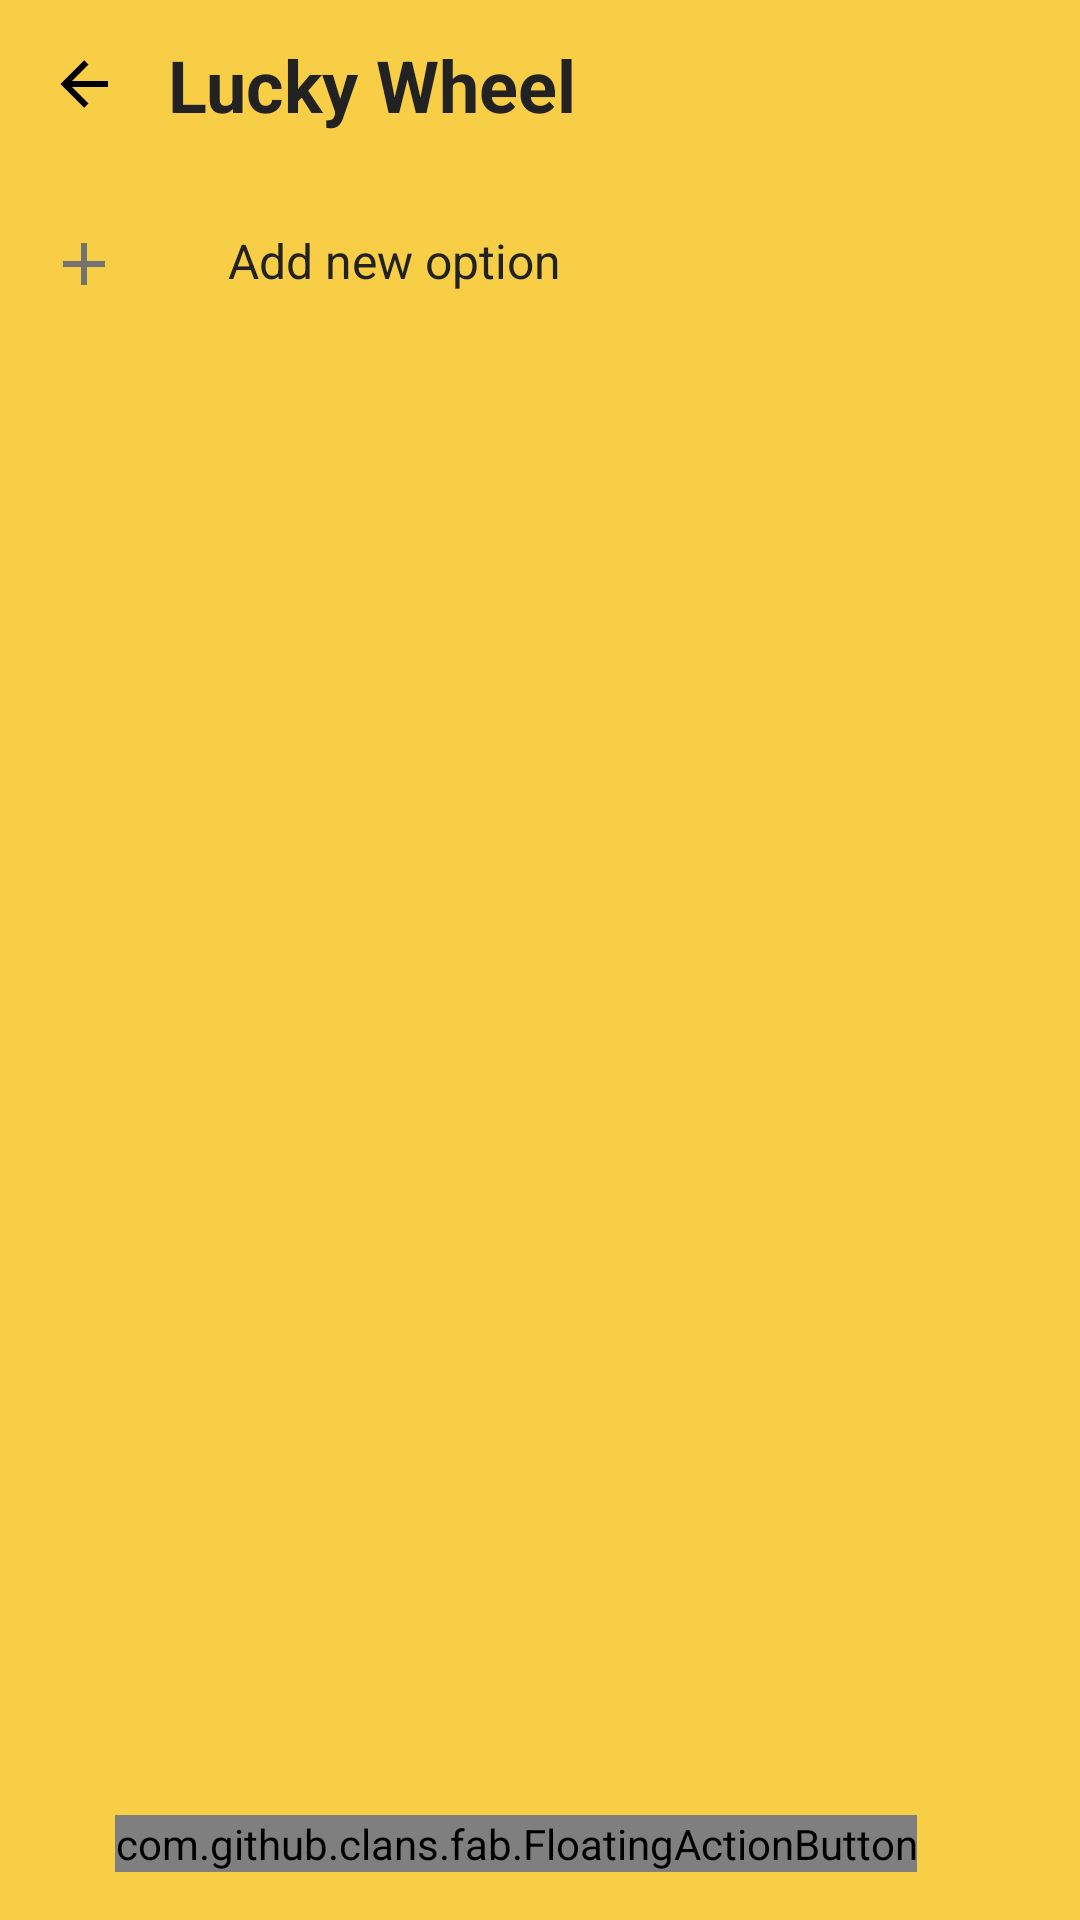

Screen size 1080w x 1920h. Icon name, then its center in pixels as (x,y):
arrow left: (84,84)
plus: (84,264)
